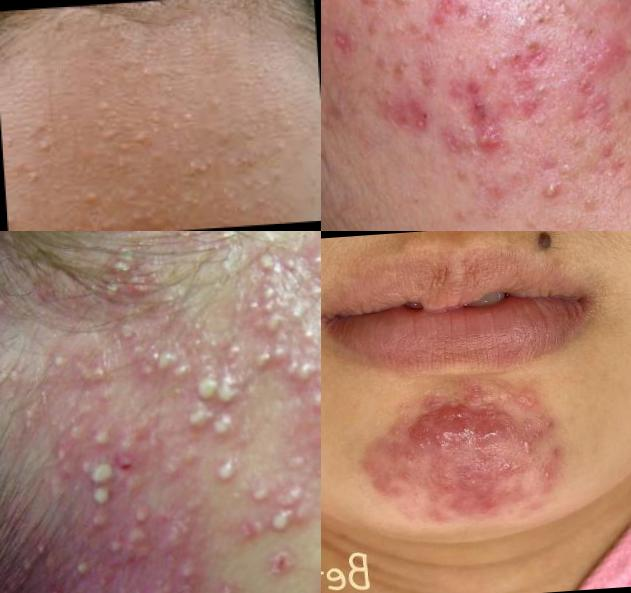acne_scars: (451, 75, 562, 131), (585, 34, 631, 76), (418, 1, 468, 32)
blackhead: (126, 187, 160, 231), (264, 137, 290, 167)
folliculitis: (96, 530, 128, 563)
papular: (424, 402, 527, 457), (356, 436, 425, 497), (437, 468, 502, 520), (520, 454, 569, 501), (446, 380, 492, 406), (513, 376, 546, 407), (529, 416, 558, 451), (205, 572, 248, 593)
purulent: (96, 242, 152, 308), (68, 351, 131, 400), (34, 336, 83, 383), (202, 448, 251, 493), (149, 341, 198, 386), (252, 244, 304, 286), (224, 512, 273, 554), (9, 400, 51, 444), (527, 170, 567, 216), (275, 473, 318, 514), (1, 352, 38, 396), (252, 310, 295, 346), (252, 274, 291, 313), (58, 555, 101, 590), (176, 404, 214, 443), (84, 417, 123, 455), (242, 476, 282, 512), (85, 457, 124, 493), (263, 503, 299, 540), (83, 482, 120, 516), (206, 409, 243, 442), (307, 249, 322, 297), (301, 387, 322, 419)
sebo-crystan-conglo: (256, 339, 320, 391), (186, 373, 250, 413), (394, 86, 439, 142), (464, 119, 510, 163), (122, 495, 163, 533), (118, 578, 194, 593), (54, 578, 120, 593), (322, 1, 339, 48), (388, 1, 422, 19)
whitehead: (224, 169, 276, 225), (78, 97, 125, 145), (158, 95, 201, 144), (522, 1, 578, 35), (475, 45, 521, 81), (467, 2, 508, 42), (73, 180, 112, 213), (29, 130, 62, 164), (179, 155, 215, 185), (379, 15, 417, 42), (390, 51, 416, 80), (551, 155, 580, 180)
